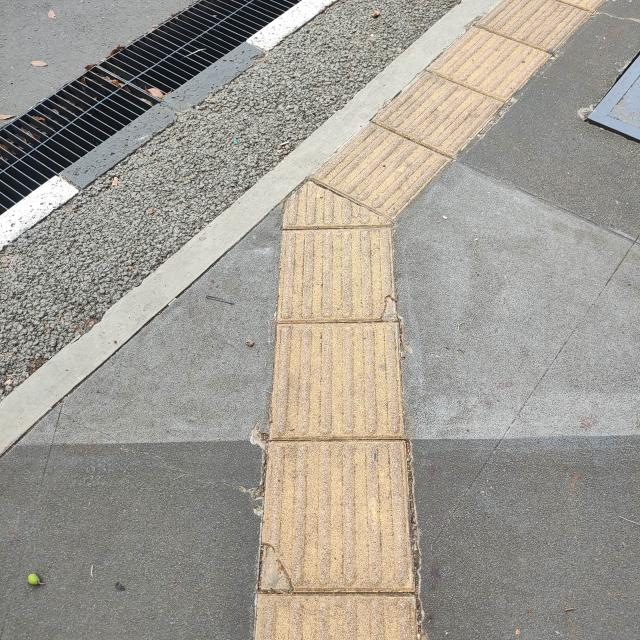lurus: (223, 231, 431, 640)
